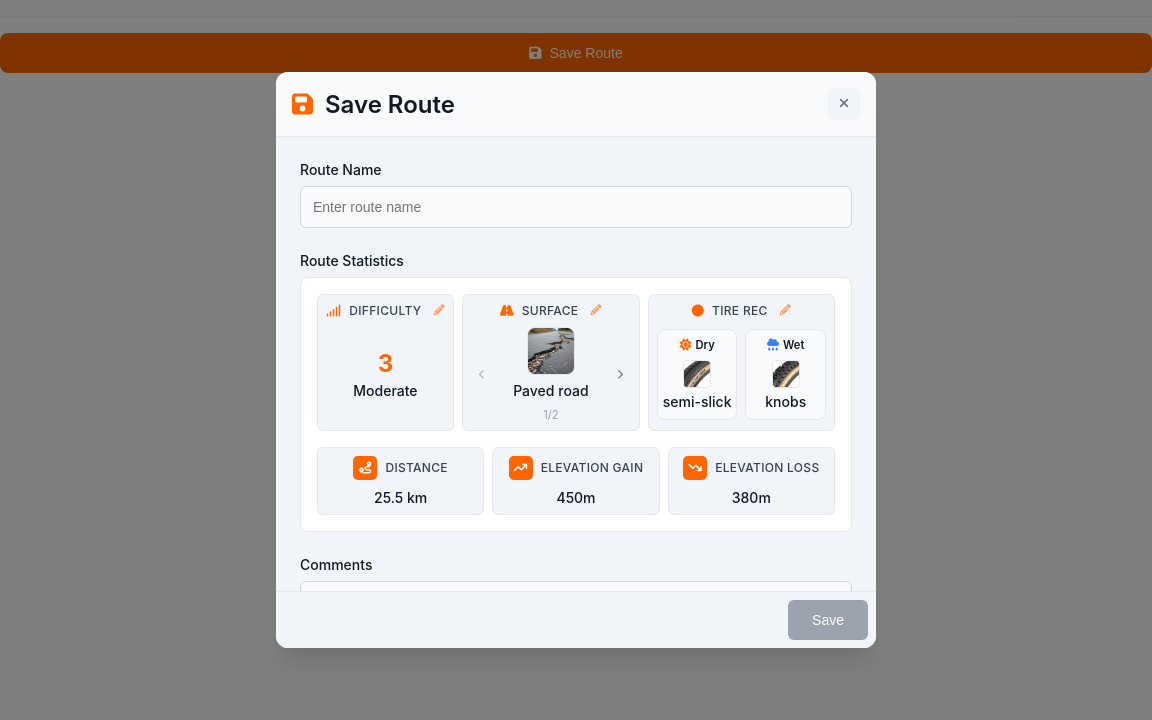
Test: RouteSaveModal › Save Route API Call › should show error message on failed save
Type "Test Route" into the field with id "route-name" at (576, 207), box top-left (300, 186), bottom-right (852, 228)
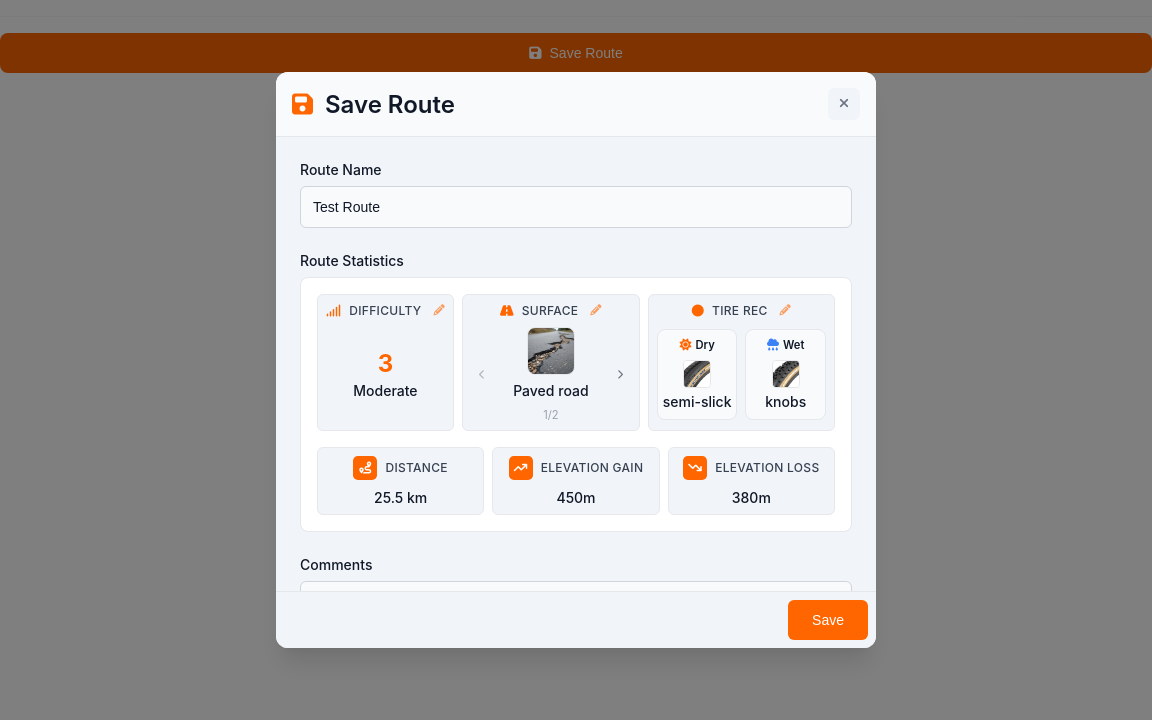
Click the button "Save" at (828, 620), box top-left (788, 600), bottom-right (868, 640)
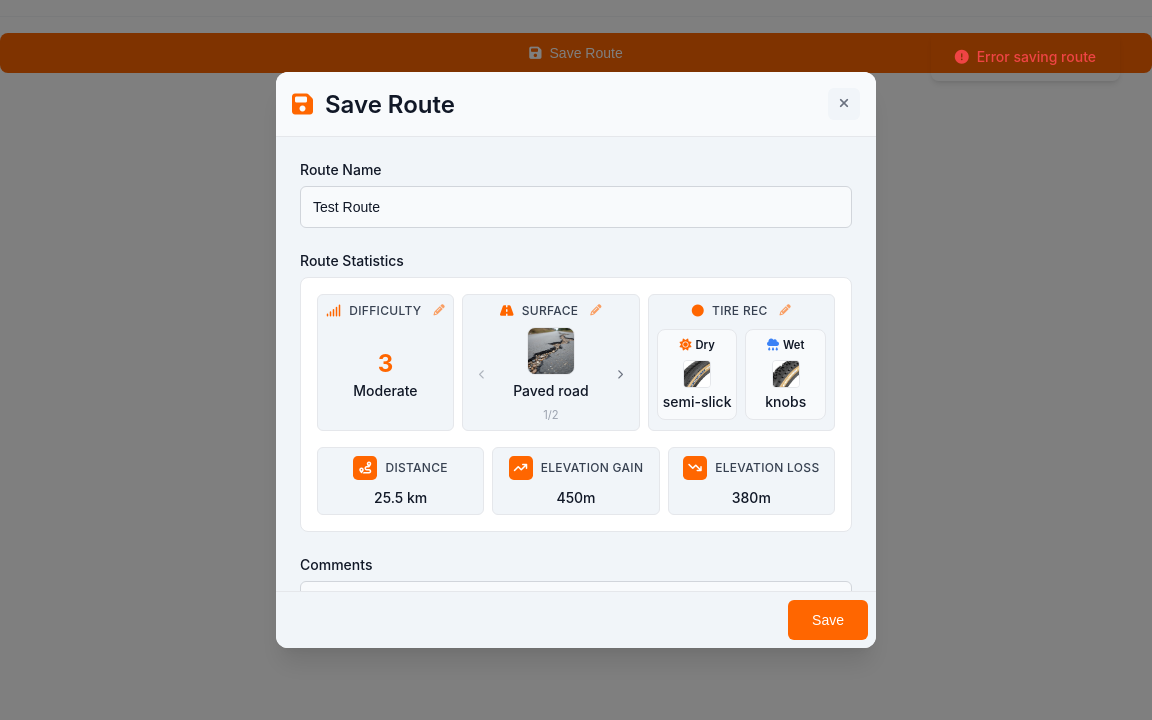
Expected: the element with class "save-error-message" is shown, top-left (931, 32), bottom-right (1120, 81)
